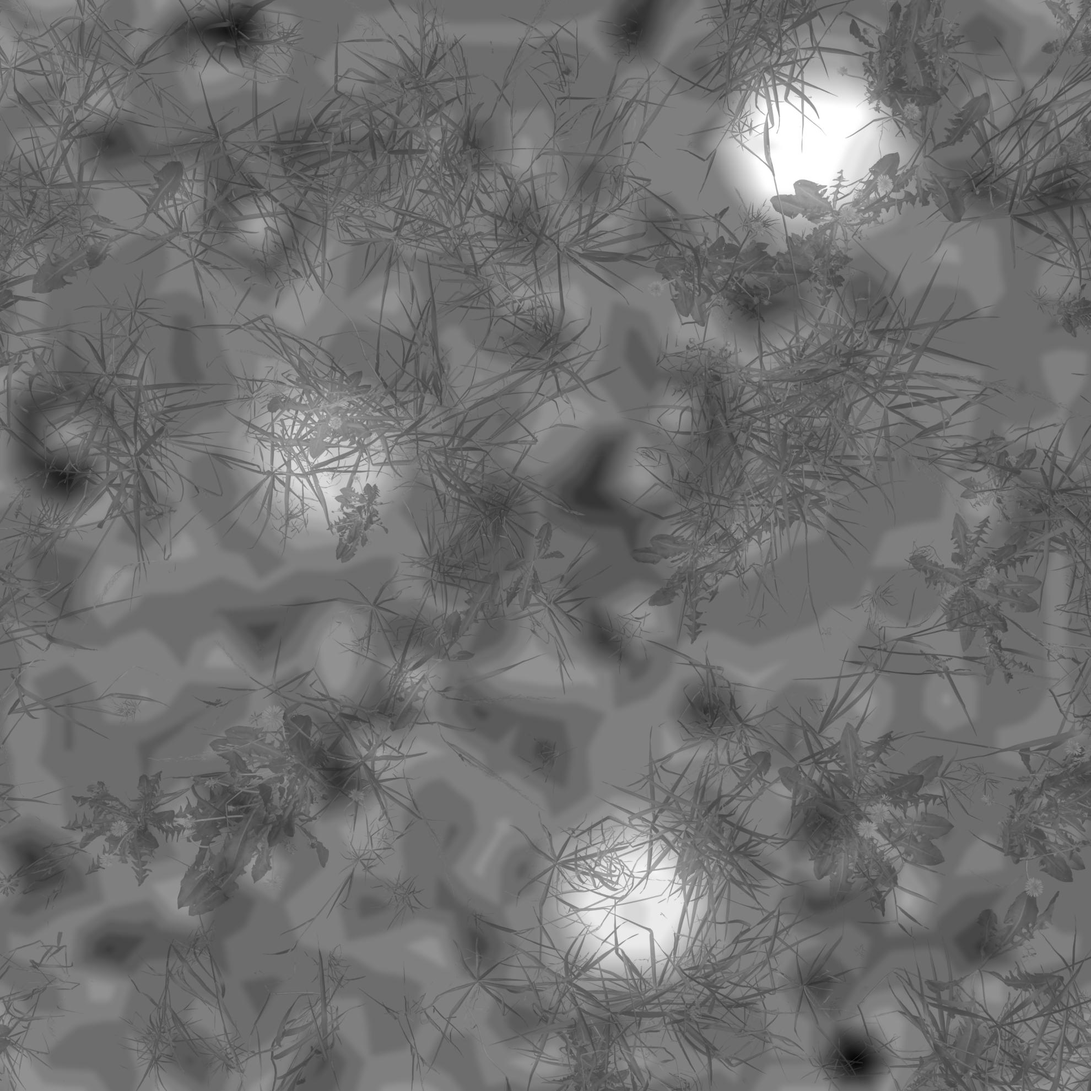landmine: (543, 807, 718, 973), (729, 60, 885, 223), (247, 385, 403, 530)
